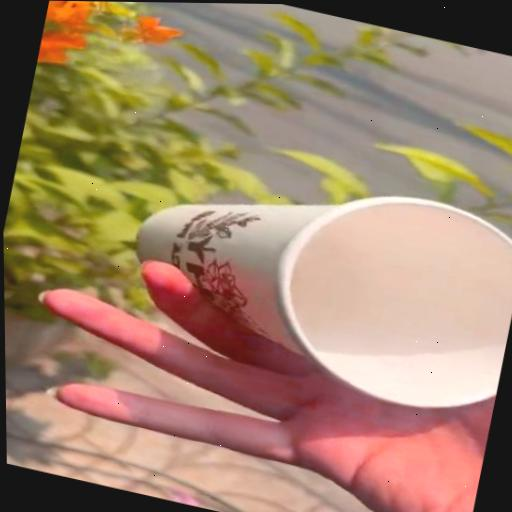ly_giay: (137, 196, 512, 407)
